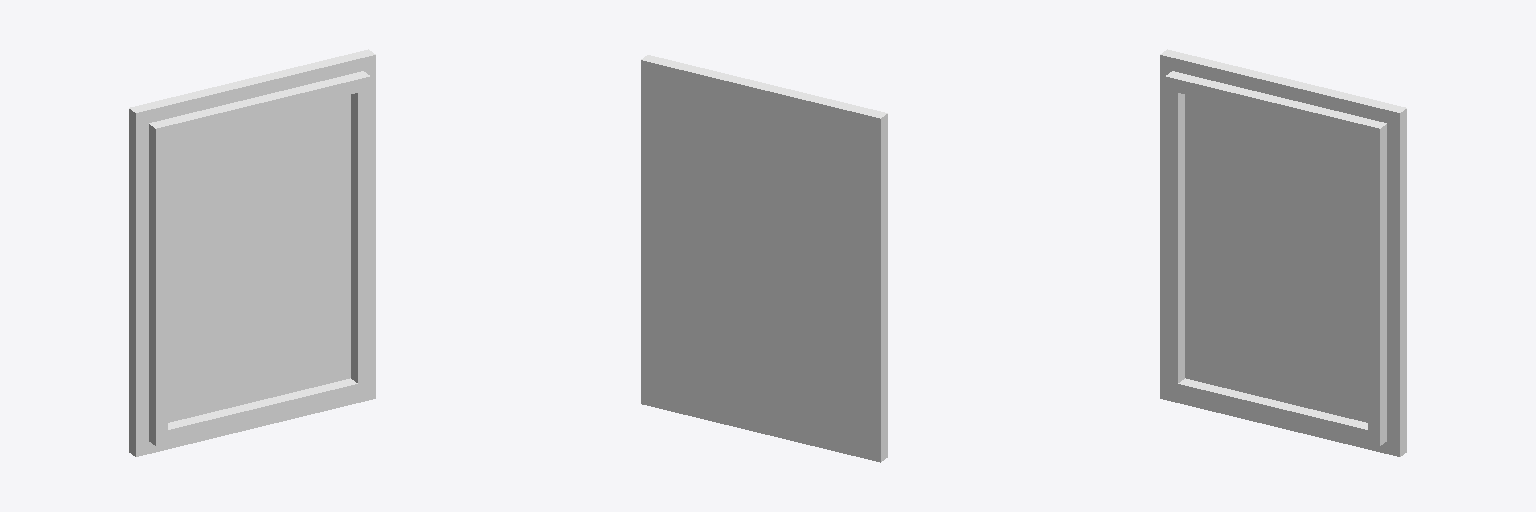
Rendered from foxPaint.obj.
The picture shows the model from 3 angles: view 1: azimuth 30°, elevation 25°; view 2: azimuth 150°, elevation 25°; view 3: azimuth 330°, elevation 25°; orthographic projection.
Visible parts, largest first — view 1: foxPaint; view 2: foxPaint; view 3: foxPaint.
Part boxes in pixels (left/top/right/bottom): foxPaint: left=129, top=49, right=375, bottom=456; foxPaint: left=641, top=55, right=887, bottom=462; foxPaint: left=1160, top=49, right=1406, bottom=456.
Size of the model in its own units: 19 by 26 by 2.